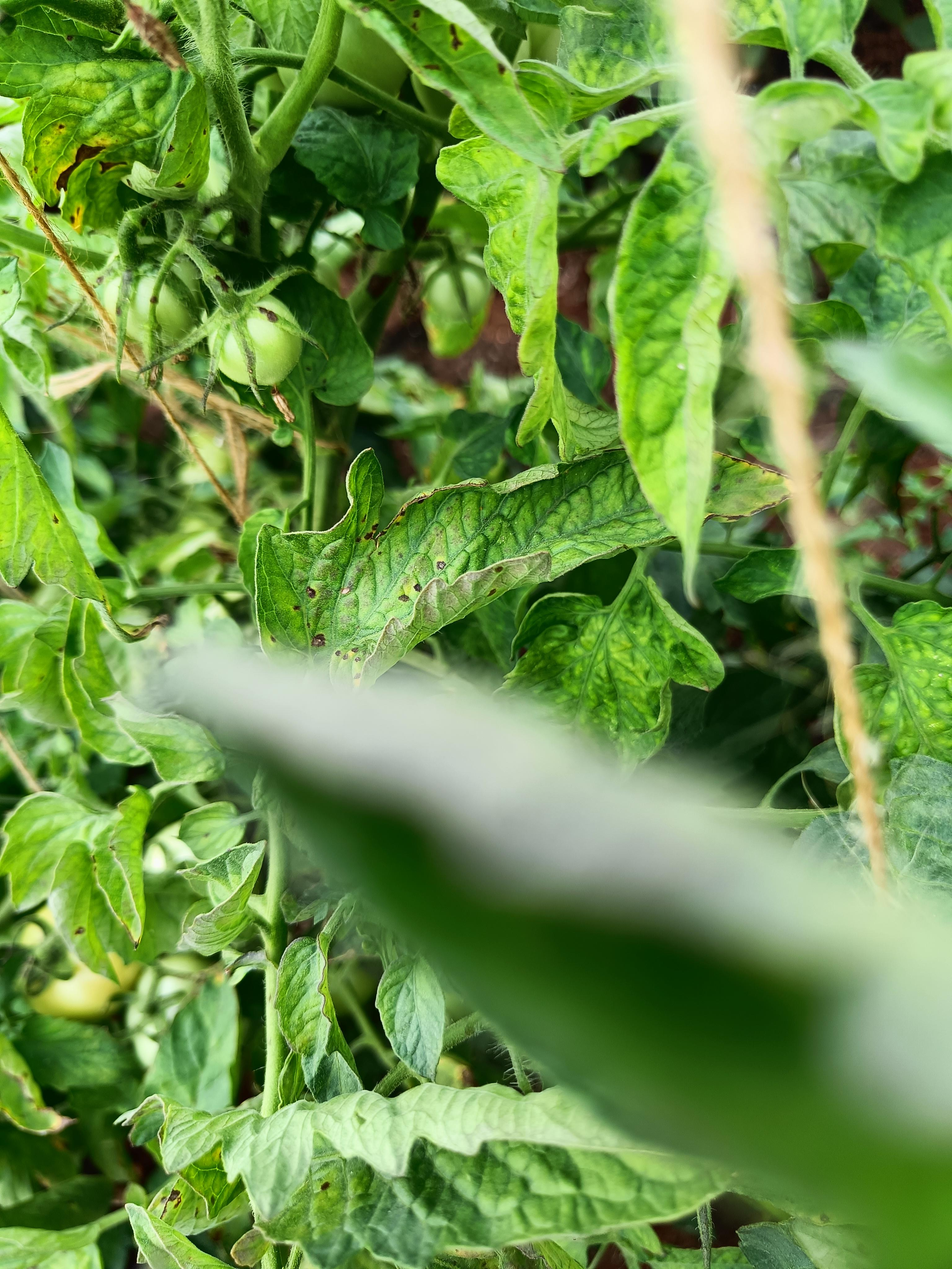Early Blight: (250, 439, 800, 683)
